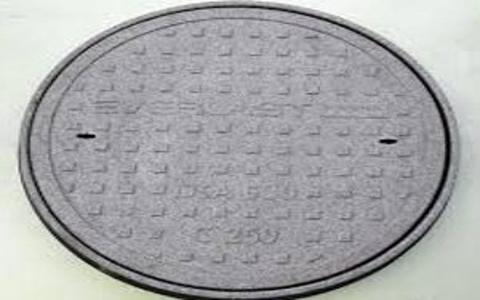proper manhole: (18, 3, 480, 292)
